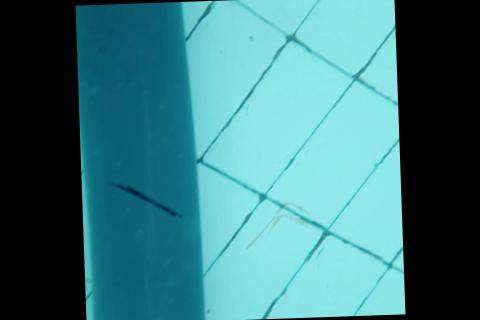keretakan: (104, 176, 185, 223)
